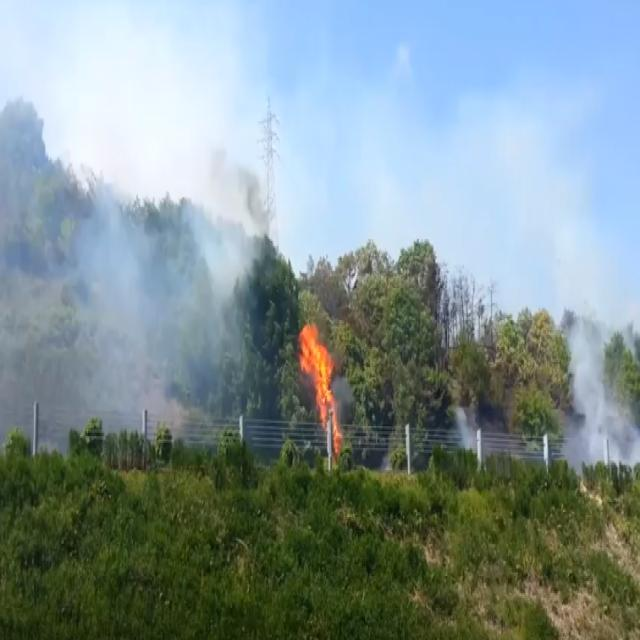Fire: (294, 320, 344, 458)
Smoke: (0, 70, 264, 462), (74, 183, 164, 424), (554, 310, 640, 480), (444, 381, 497, 472)
